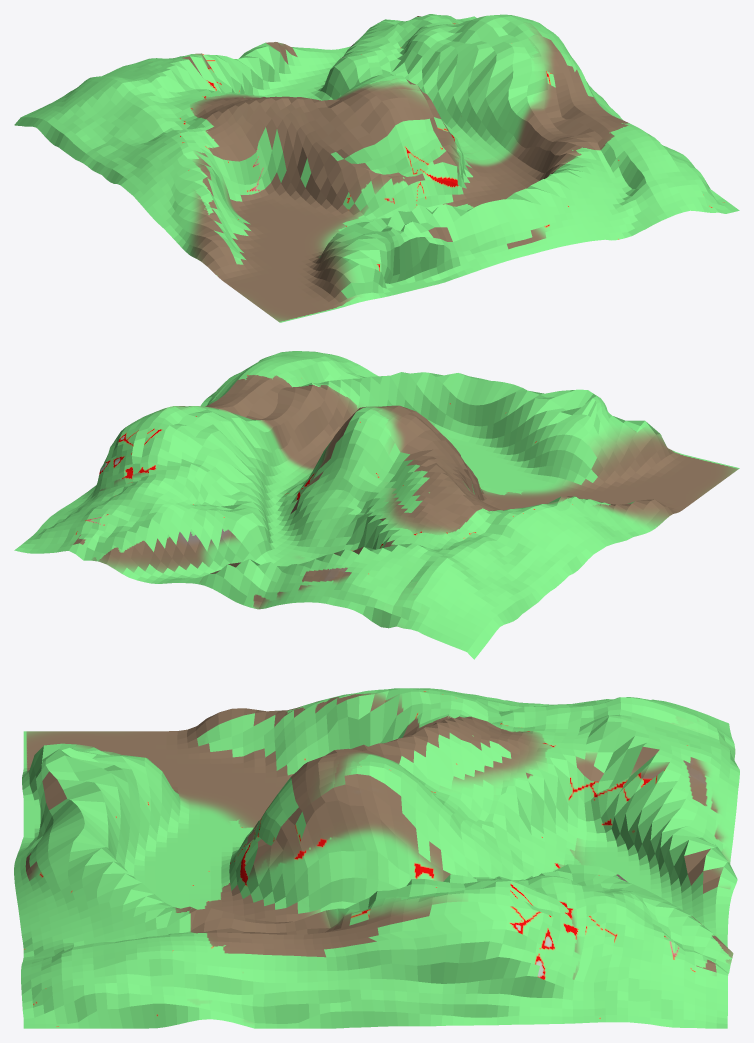
Rendered from mapa.fbx.
The picture shows the model from 3 angles, top to bottom: view 1: azimuth 30°, elevation 25°; view 2: azimuth 150°, elevation 25°; view 3: azimuth 270°, elevation 25°; orthographic projection. The views are drawn at different scales.
Parts seen in each view (by area): view 1: mapa; view 2: mapa; view 3: mapa.
Part boxes in pixels (x1,y1,x2,y2): mapa: (14,14,739,322); mapa: (14,351,739,659); mapa: (14,688,739,1028).
Bounding box in the file's own units: 20406 × 3848 × 20624.
